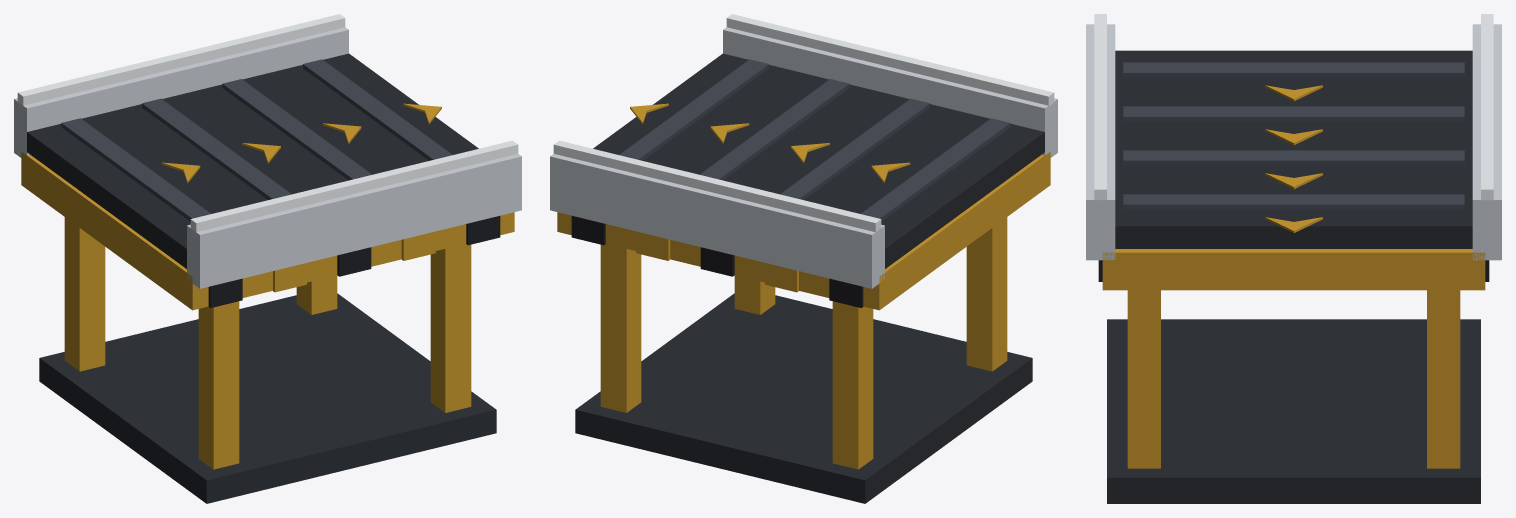
Rendered from conveyor.glb.
3 renders of one model, left to right at view 1: azimuth 30°, elevation 25°; view 2: azimuth 150°, elevation 25°; view 3: azimuth 270°, elevation 25°, orthographic. The views are drawn at different scales.
Visible parts, largest first — view 1: frame, slats; view 2: frame, slats; view 3: frame, slats.
Part boxes in pixels (x1,y1,x2,y2): frame: (14, 14, 521, 503); slats: (61, 59, 452, 221); frame: (550, 14, 1057, 503); slats: (619, 59, 1010, 221); frame: (1086, 14, 1501, 503); slats: (1123, 62, 1464, 232).
Size of the model in its own units: 1.04 by 0.857 by 1.
